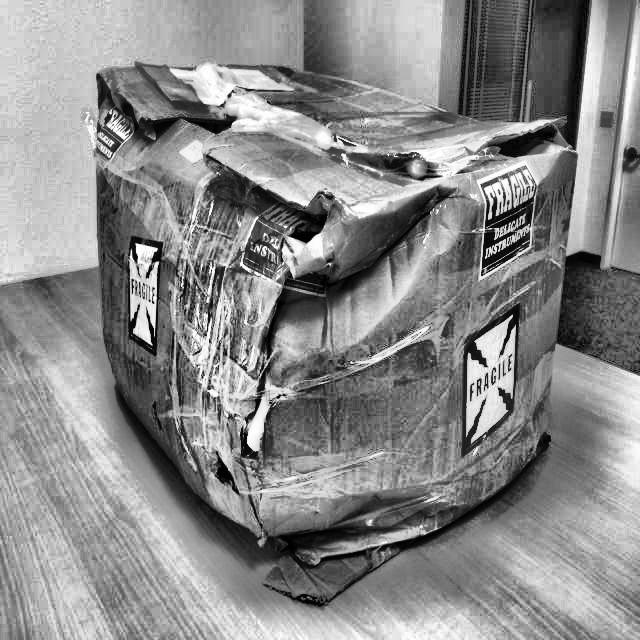box: (76, 45, 591, 578)
hole: (210, 453, 240, 497)
